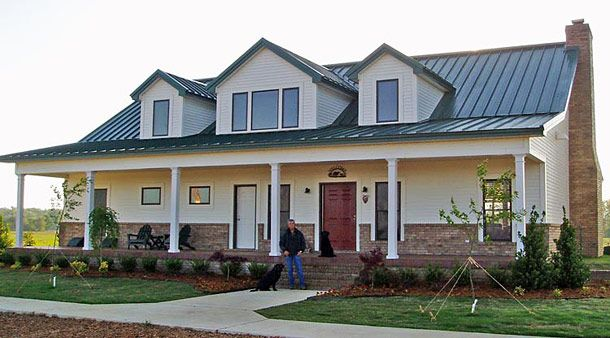Tin-shade House: (9, 24, 586, 288)
